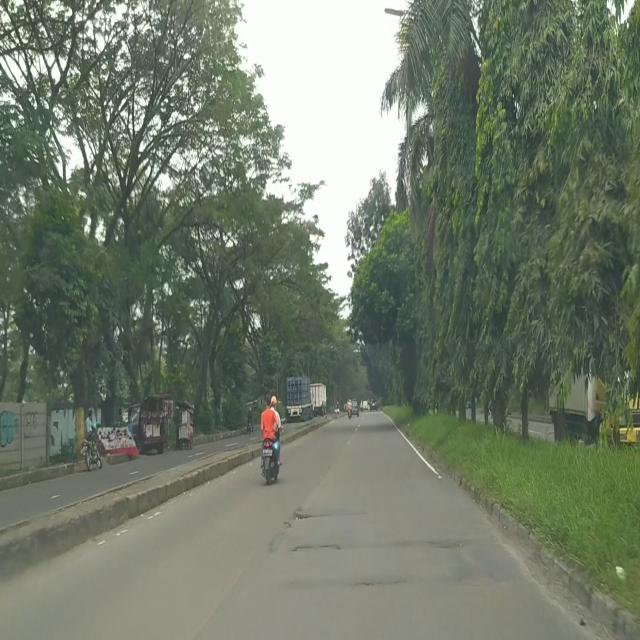Sewer Cover: (289, 538, 469, 554), (294, 511, 334, 520)
